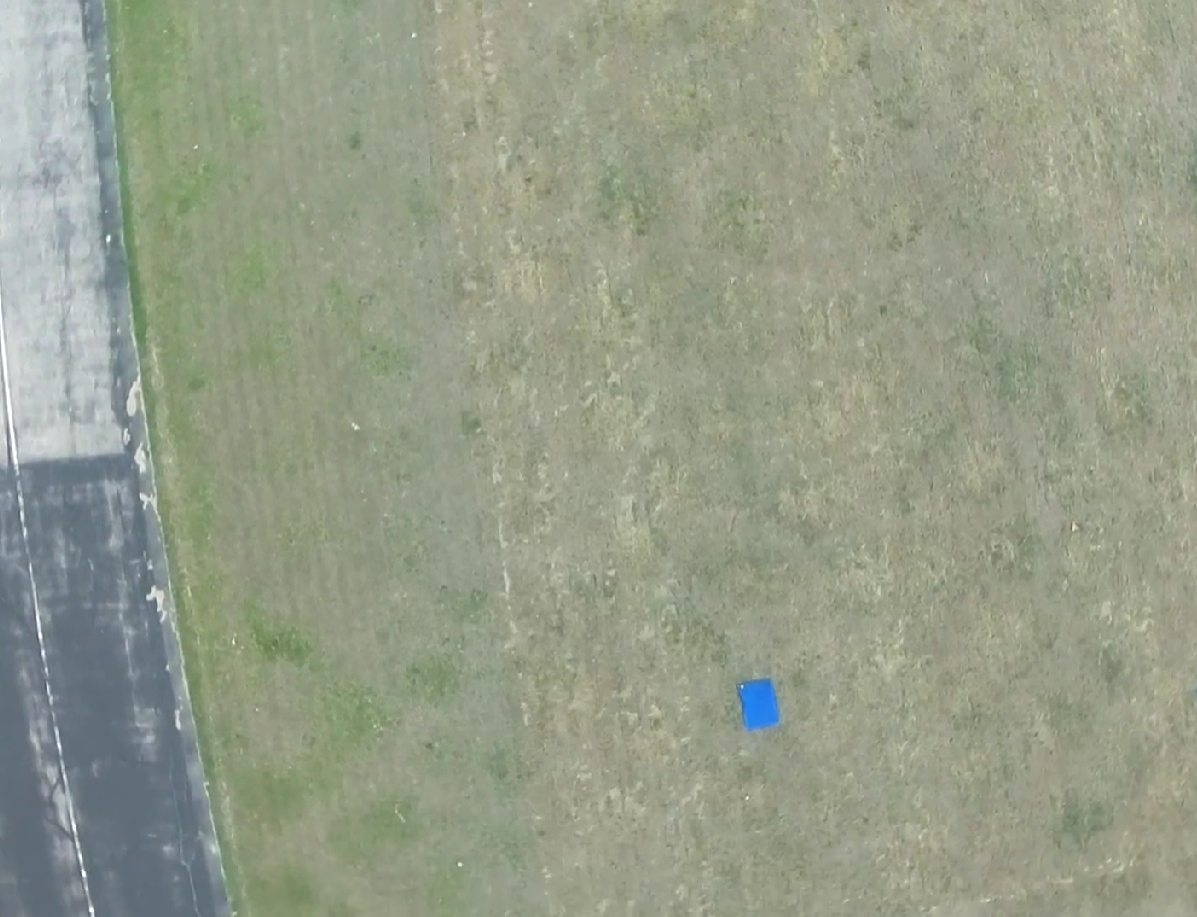TOI: (735, 678, 783, 731)
